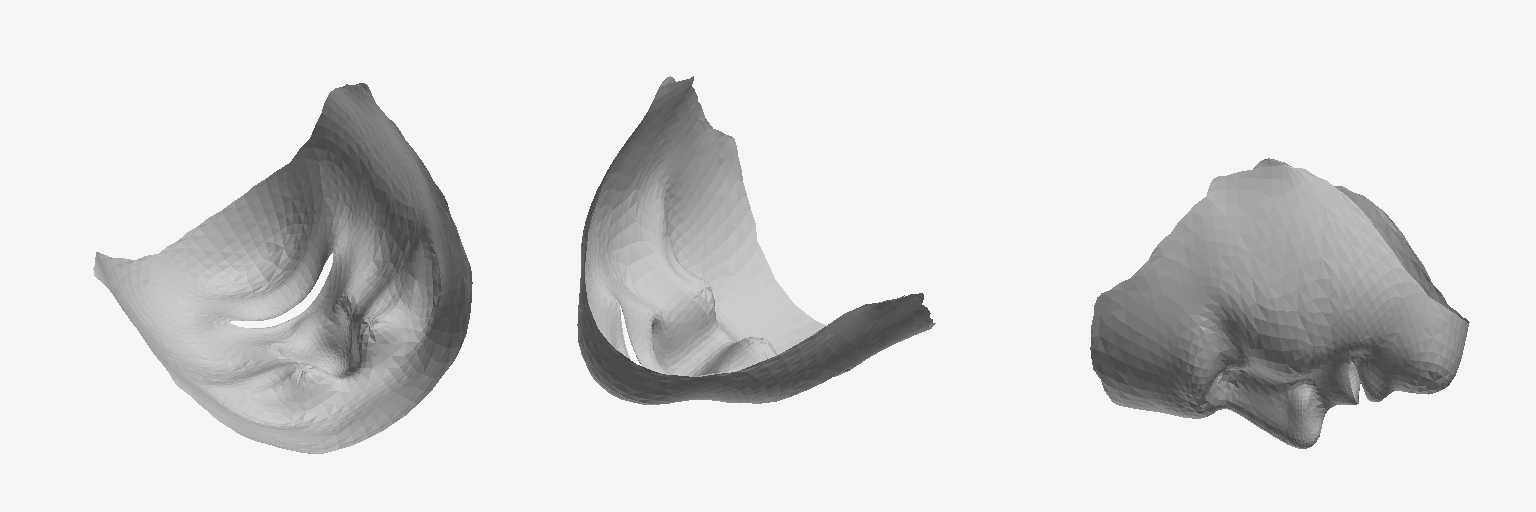
The model's file is face_gab_sfm113.obj.
3 views of the same model, side by side, from view 1: azimuth 30°, elevation 25°; view 2: azimuth 150°, elevation 25°; view 3: azimuth 270°, elevation 25° (orthographic).
Bounding box in the file's own units: 166 × 161 × 184.